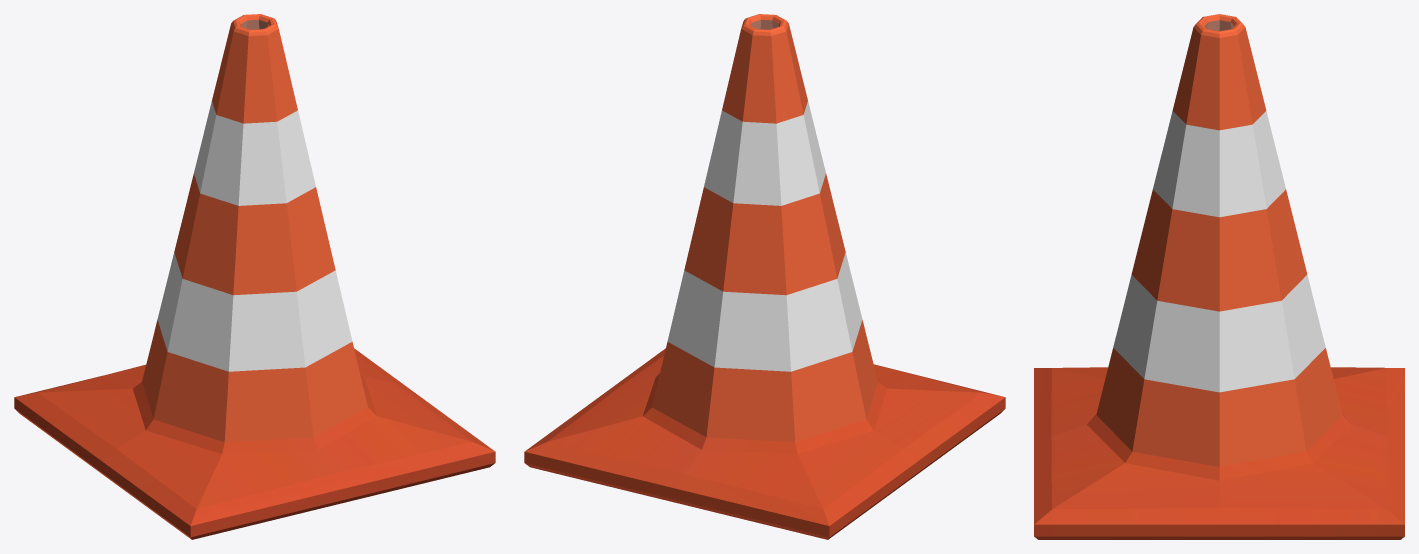
3 renders of one model, left to right at view 1: azimuth 30°, elevation 25°; view 2: azimuth 150°, elevation 25°; view 3: azimuth 270°, elevation 25°, orthographic. The views are drawn at different scales.
Parts seen in each view (by area): view 1: Cone; view 2: Cone; view 3: Cone.
Boxes of the visible parts, left/top/right/bottom form: Cone: left=14, top=14, right=495, bottom=539; Cone: left=524, top=14, right=1005, bottom=539; Cone: left=1034, top=14, right=1404, bottom=539.
Bounding box in the file's own units: 79.64 × 104 × 79.64.
Materials: 1 (1 with a texture image).
